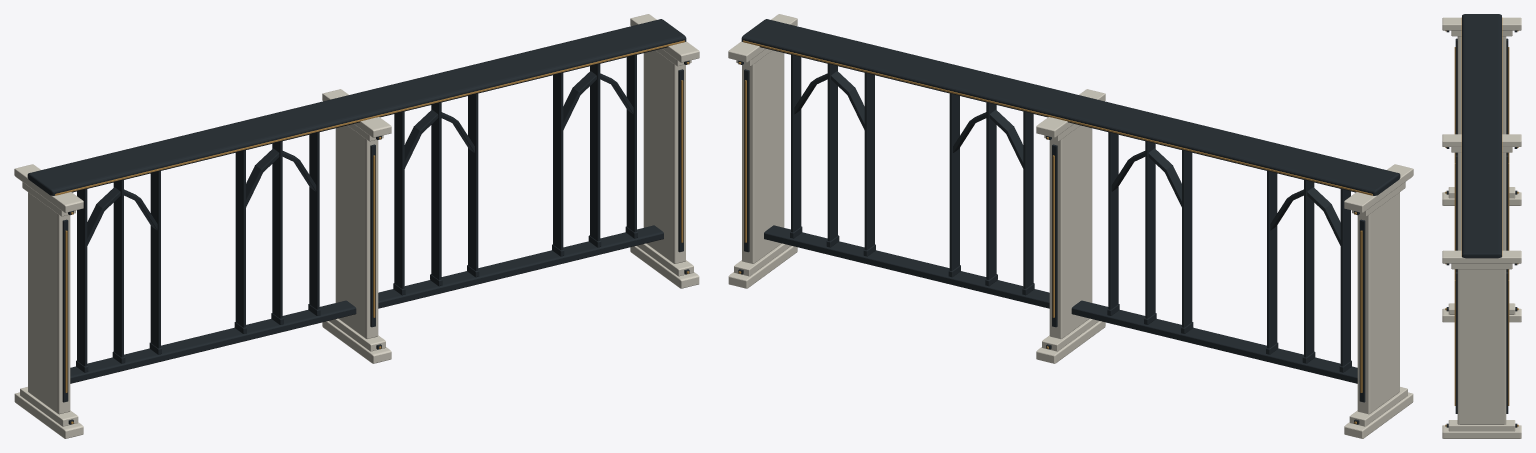
File: SM_Aurelion_KIT_Z10Guardrail_4.fbx
3 views of the same model, side by side, from view 1: azimuth 30°, elevation 25°; view 2: azimuth 150°, elevation 25°; view 3: azimuth 270°, elevation 25° (orthographic). The views are drawn at different scales.
Visible parts, largest first — view 1: SM_Aurelion_KIT_Z10Guardrail_4; view 2: SM_Aurelion_KIT_Z10Guardrail_4; view 3: SM_Aurelion_KIT_Z10Guardrail_4.
Boxes of the visible parts, x1,y1,x2,y2 form: SM_Aurelion_KIT_Z10Guardrail_4: (14, 14, 699, 438); SM_Aurelion_KIT_Z10Guardrail_4: (728, 14, 1413, 438); SM_Aurelion_KIT_Z10Guardrail_4: (1442, 14, 1521, 438).
Bounding box in the file's own units: 500 × 70 × 180.
